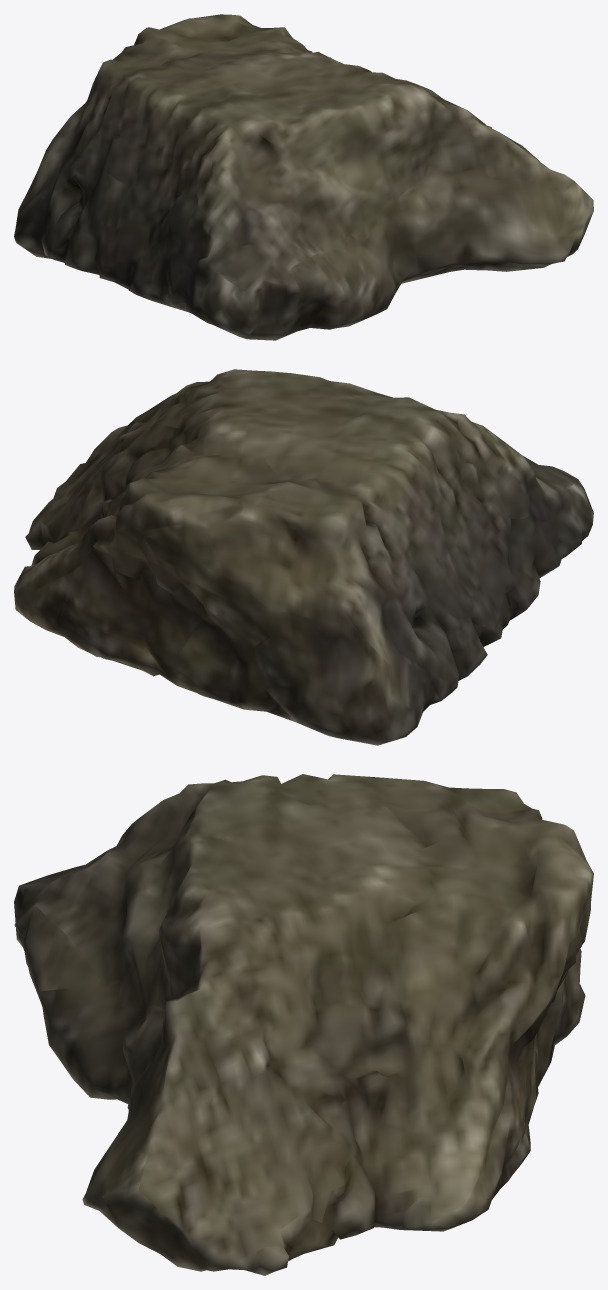
3 renders of one model, top to bottom at view 1: azimuth 30°, elevation 25°; view 2: azimuth 150°, elevation 25°; view 3: azimuth 270°, elevation 25°, orthographic. The views are drawn at different scales.
Visible parts, largest first — view 1: rock_moss_set_02__b_lod1; view 2: rock_moss_set_02__b_lod1; view 3: rock_moss_set_02__b_lod1.
Boxes of the visible parts, x1=… form: rock_moss_set_02__b_lod1: x1=14, y1=14, x2=593, y2=340; rock_moss_set_02__b_lod1: x1=14, y1=369, x2=593, y2=745; rock_moss_set_02__b_lod1: x1=14, y1=774, x2=593, y2=1275.
Bounding box in the file's own units: 1.2 × 0.5247 × 0.9836.
1 material, 1 textured.
